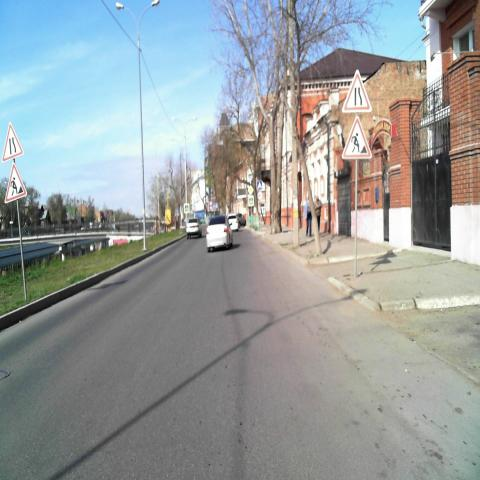1_20_2: (342, 68, 373, 114), (0, 122, 24, 161)
1_25: (342, 115, 373, 162), (3, 162, 27, 204)
